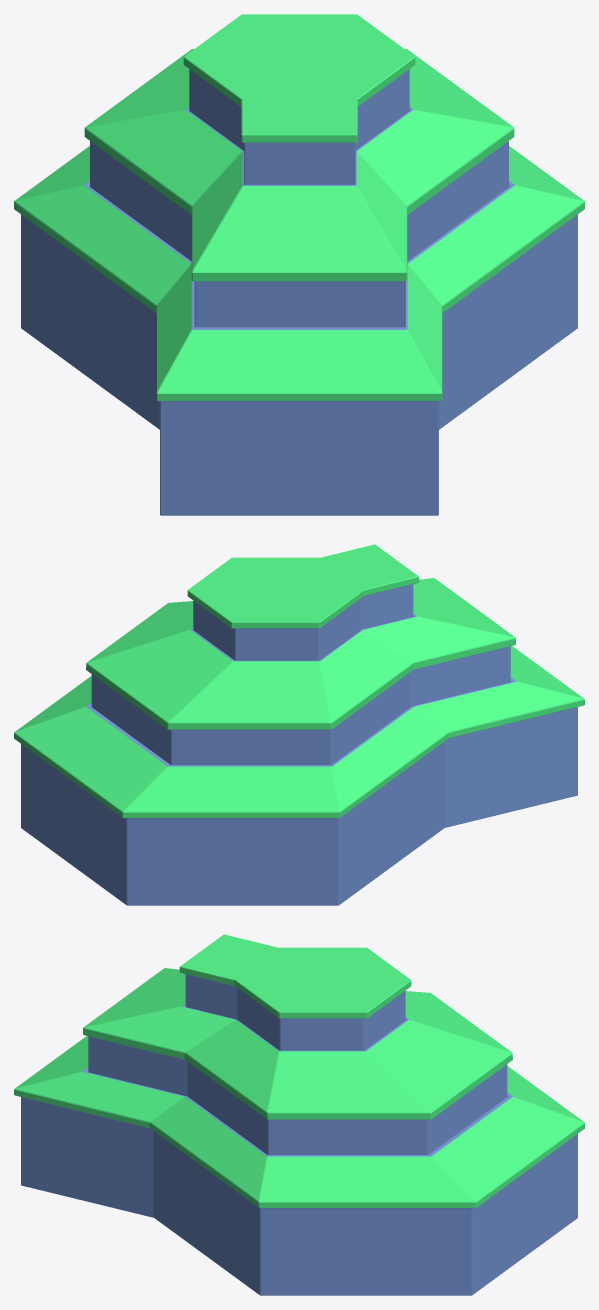
The model's file is Rock 6.fbx.
3 renders of one model, top to bottom at view 1: azimuth 30°, elevation 25°; view 2: azimuth 150°, elevation 25°; view 3: azimuth 270°, elevation 25°, orthographic. The views are drawn at different scales.
Parts seen in each view (by area): view 1: Rock 6; view 2: Rock 6; view 3: Rock 6.
Boxes of the visible parts, box(x1,y1,x2,y2) form: Rock 6: box(14, 14, 584, 515); Rock 6: box(14, 544, 584, 905); Rock 6: box(14, 934, 584, 1295).
Size of the model in its own units: 214 by 118 by 269.
